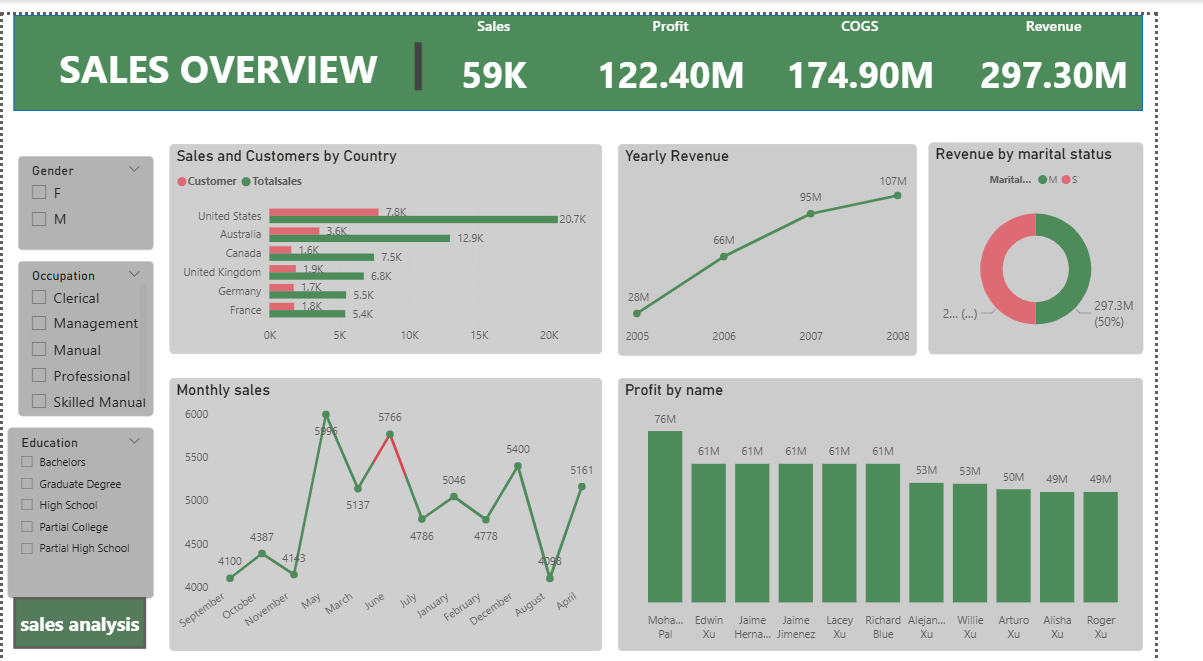

What the dashboard file says about the page in this screenshot:
{"tool":"powerbi","page":{"name":"Sales Analysis","canvas":[1280,720],"ordinal":1},"visuals":[{"type":"card","title":"Revenue","fields":{"Values":["SalesTable.TotalRevenue"]},"box":[1068.6,0,198.6,107.1],"z":0},{"type":"card","title":"Profit","fields":{"Values":["SalesTable.TotalProfit"]},"box":[647.1,0,190,107.1],"z":1000},{"type":"card","title":"COGS","fields":{"Values":["SalesTable.Total_cost_of_Goods"]},"box":[850.7,0,204.3,107.1],"z":2000},{"type":"textbox","box":[17.1,0,425.7,107.1],"z":3000},{"type":"card","title":"Sales","fields":{"Values":["Customer.Totalsales"]},"box":[456.4,0,177.1,107.1],"z":4000},{"type":"slicer","fields":{"Values":["Customer.Gender"]},"box":[16.6,157.4,150.7,104.4],"z":5000},{"type":"slicer","fields":{"Values":["Customer.Occupation"]},"box":[16.9,272.9,150.8,172.9],"z":6000},{"type":"slicer","fields":{"Values":["Customer.Education"]},"box":[5.1,457.6,162.7,189.8],"z":7000},{"type":"actionButton","box":[0,648.3,185,58.3],"z":8000},{"type":"clusteredBarChart","title":"Sales and Customers by Country","fields":{"Category":["Geography.Country"],"Y":["SalesTable.Customer","Customer.Totalsales"]},"box":[185.5,144.1,480.4,233.6],"z":9000},{"type":"lineChart","title":"Monthly sales","fields":{"Category":["Date.Month"],"Y":["Customer.Totalsales"]},"box":[185.5,402.5,480.4,303.1],"z":10000},{"type":"lineChart","title":"Yearly Revenue","fields":{"Category":["Date.CalendarYear"],"Y":["SalesTable.TotalRevenue"]},"box":[683.3,143.3,331.7,235],"z":11000},{"type":"donutChart","title":"Revenue by marital status","fields":{"Category":["Customer.MaritalStatus"],"Y":["SalesTable.TotalRevenue"]},"box":[1028.3,141.7,238.3,235],"z":12000},{"type":"clusteredColumnChart","title":"Profit by name","fields":{"Y":["SalesTable.TotalProfit"],"Category":["Customer.Fullname"]},"box":[683.3,403.3,583.3,303.3],"z":13000}]}

Visuals, with their boxes in screenshot pixels (x1, y1, x2, y2), scaled from the page's 1280x720 canvas onto the 1203x661 screenshot:
"Revenue" card: select_region(1004, 0, 1191, 98)
"Profit" card: select_region(608, 0, 787, 98)
"COGS" card: select_region(800, 0, 992, 98)
textbox: select_region(16, 0, 416, 98)
"Sales" card: select_region(429, 0, 595, 98)
slicer - Customer.Gender: select_region(16, 145, 157, 240)
slicer - Customer.Occupation: select_region(16, 251, 158, 409)
slicer - Customer.Education: select_region(5, 420, 158, 594)
actionButton: select_region(0, 595, 174, 649)
"Sales and Customers by Country" clusteredBarChart: select_region(174, 132, 626, 347)
"Monthly sales" lineChart: select_region(174, 370, 626, 648)
"Yearly Revenue" lineChart: select_region(642, 132, 954, 347)
"Revenue by marital status" donutChart: select_region(966, 130, 1190, 346)
"Profit by name" clusteredColumnChart: select_region(642, 370, 1190, 649)
